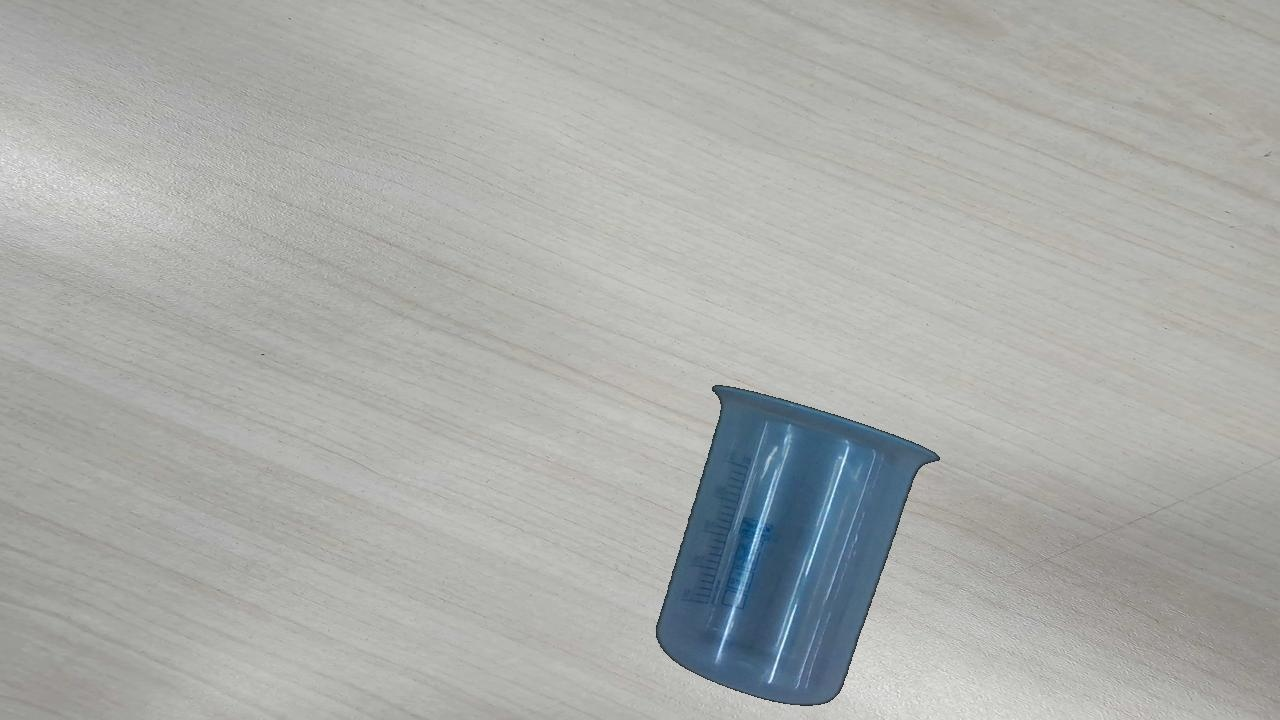becker: (654, 382, 944, 706)
